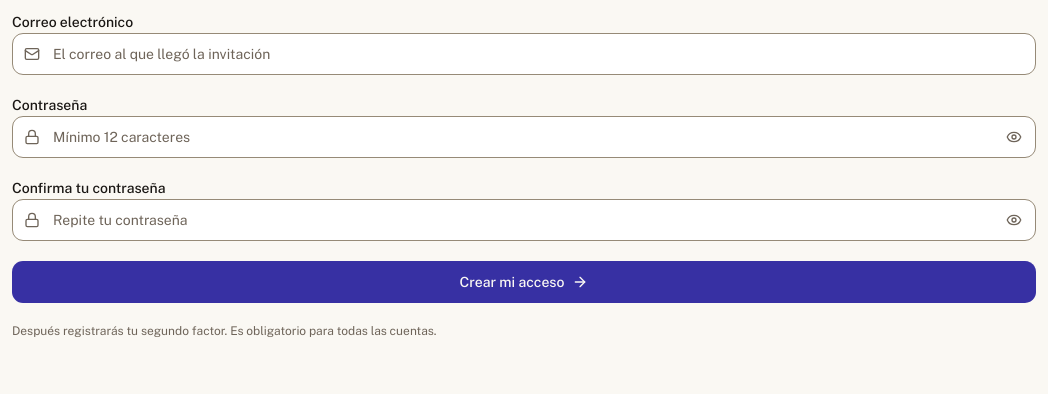
Test: AcceptInvitationForm › gives one opaque refusal for every failure, as the contract does
Type "ana@despacho.mx" into the field labelled "Correo electrónico" at point(524, 54), box [12,33,1036,75]
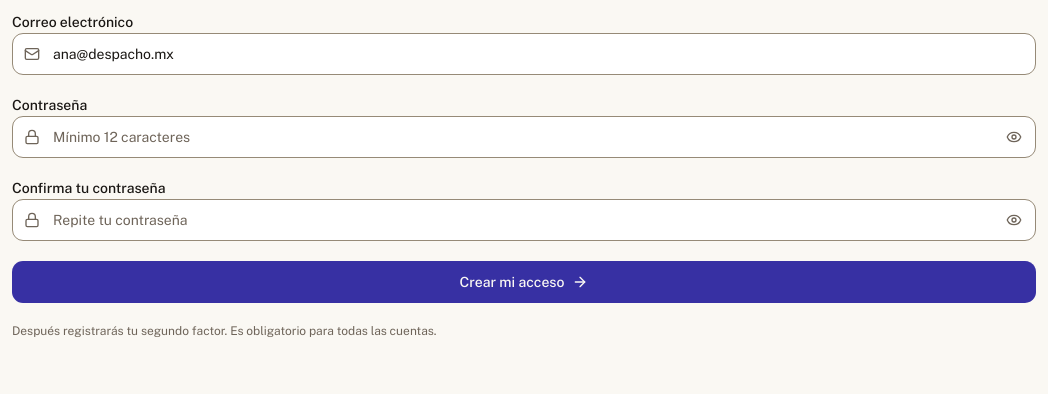
Type "una-contrasena-larga" into the password field labelled "Contraseña" at point(524, 137), box [12,116,1036,158]
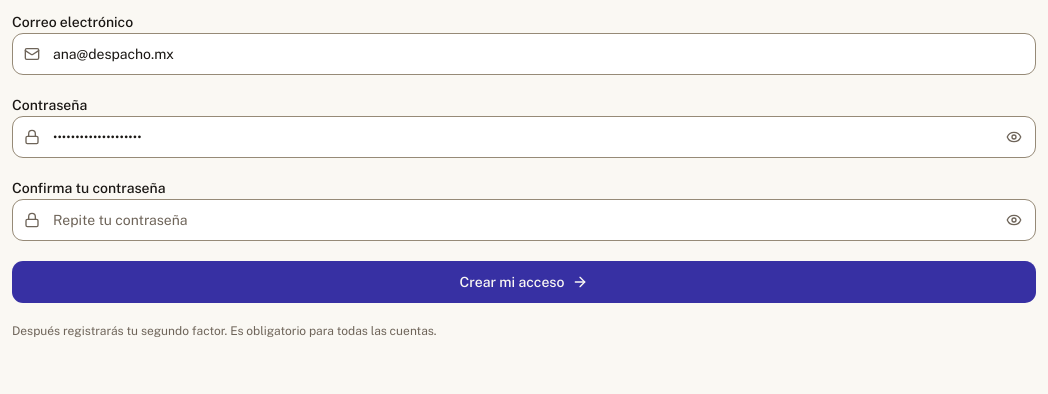
Type "una-contrasena-larga" into the password field labelled "Confirma tu contraseña" at point(524, 220), box [12,199,1036,241]
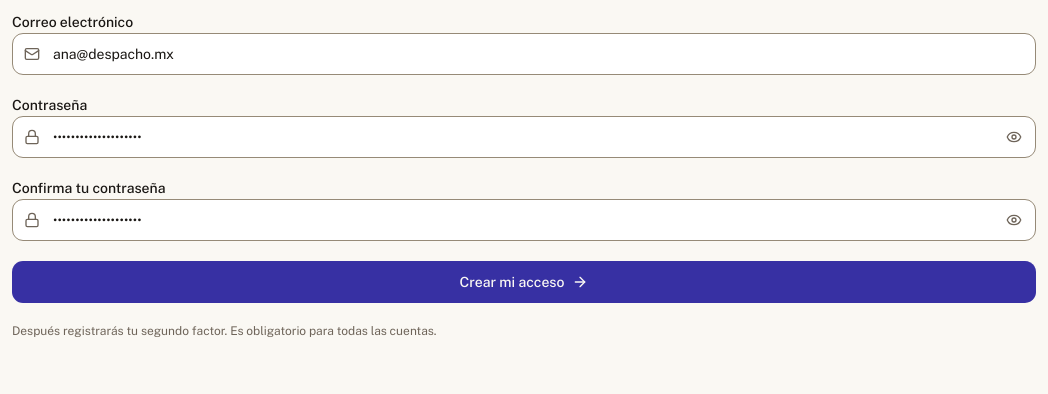
Click the button "Crear mi acceso" at point(524, 282), box [12,261,1036,303]
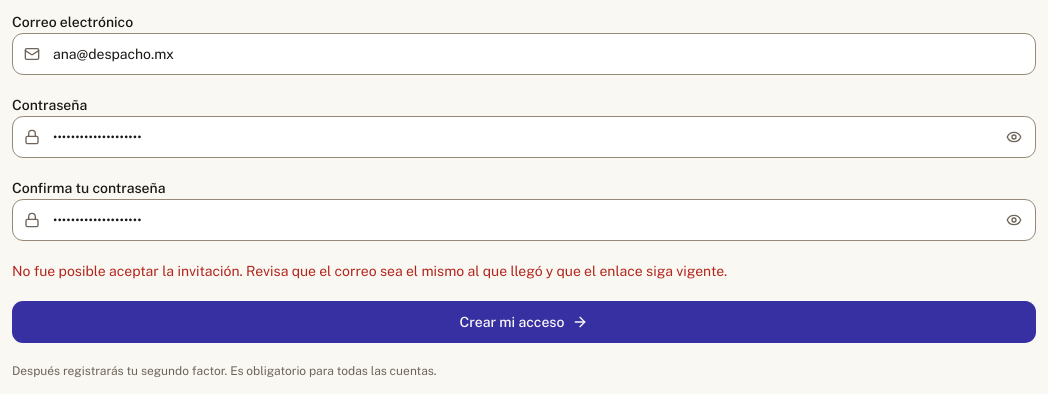
expect the message shows "No fue posible aceptar": met, box [12,263,727,279]
